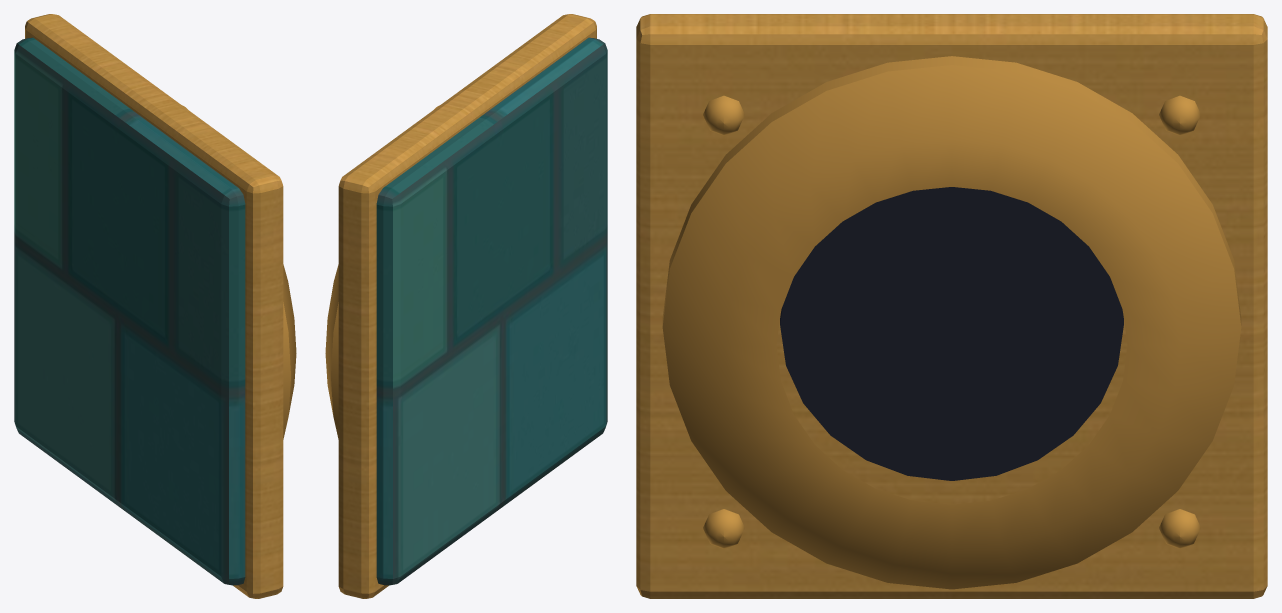
File: act2_pipe_port.glb
The picture shows the model from 3 angles, left to right: view 1: azimuth 30°, elevation 25°; view 2: azimuth 150°, elevation 25°; view 3: azimuth 270°, elevation 25°; orthographic projection. The views are drawn at different scales.
Parts seen in each view (by area): view 1: SM_Act2_PipePort_Mesh; view 2: SM_Act2_PipePort_Mesh; view 3: SM_Act2_PipePort_Mesh.
Part boxes in pixels (bbox=[...]): SM_Act2_PipePort_Mesh: bbox=[14, 14, 296, 598]; SM_Act2_PipePort_Mesh: bbox=[325, 14, 607, 598]; SM_Act2_PipePort_Mesh: bbox=[636, 14, 1267, 598].
Bounding box in the file's own units: 0.085 × 0.36 × 0.36.
3 materials, 2 textured.
